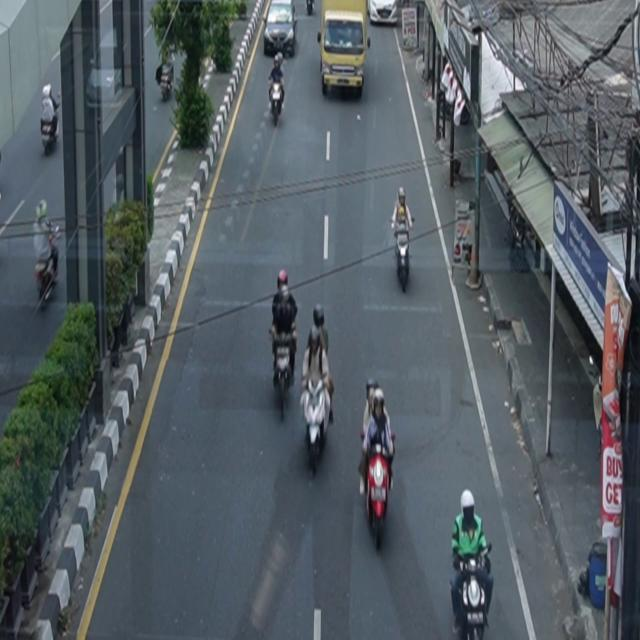car: (264, 1, 299, 58)
truck: (318, 1, 372, 99)
